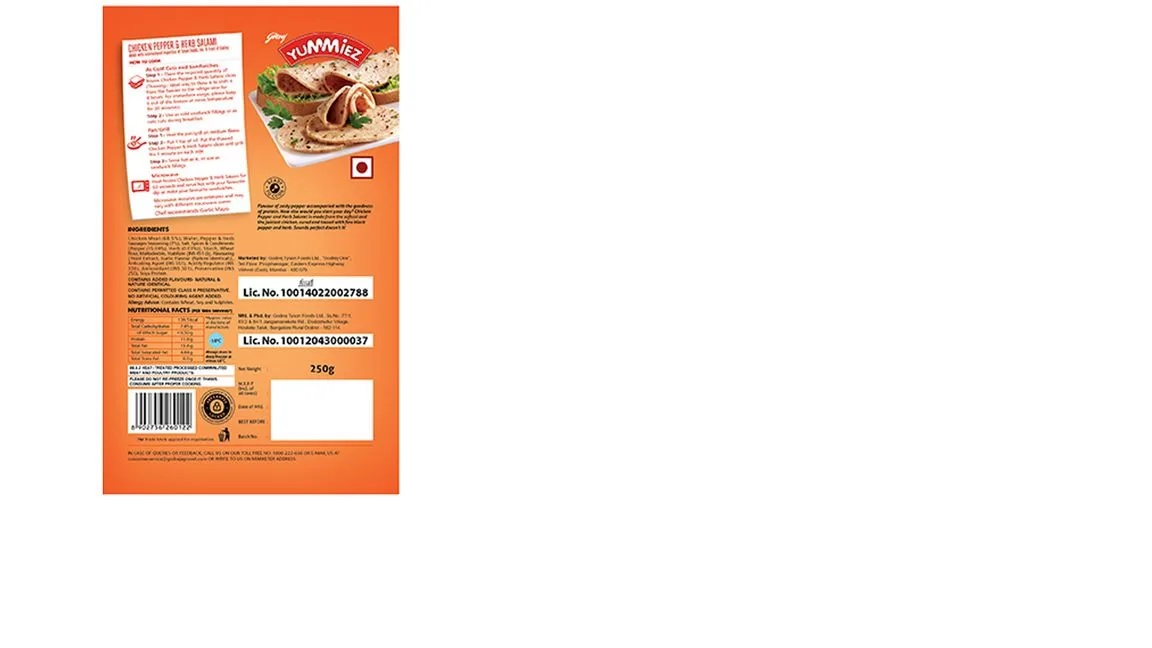non_veg: (350, 154, 382, 189)
